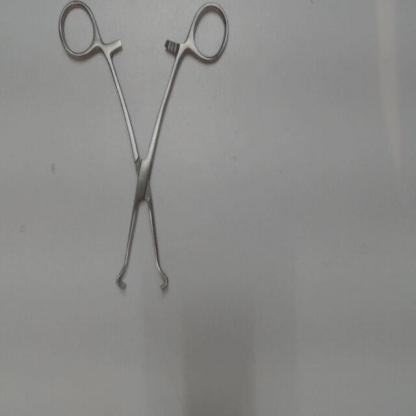Babcock Tissue Forceps: (54, 0, 233, 300)
